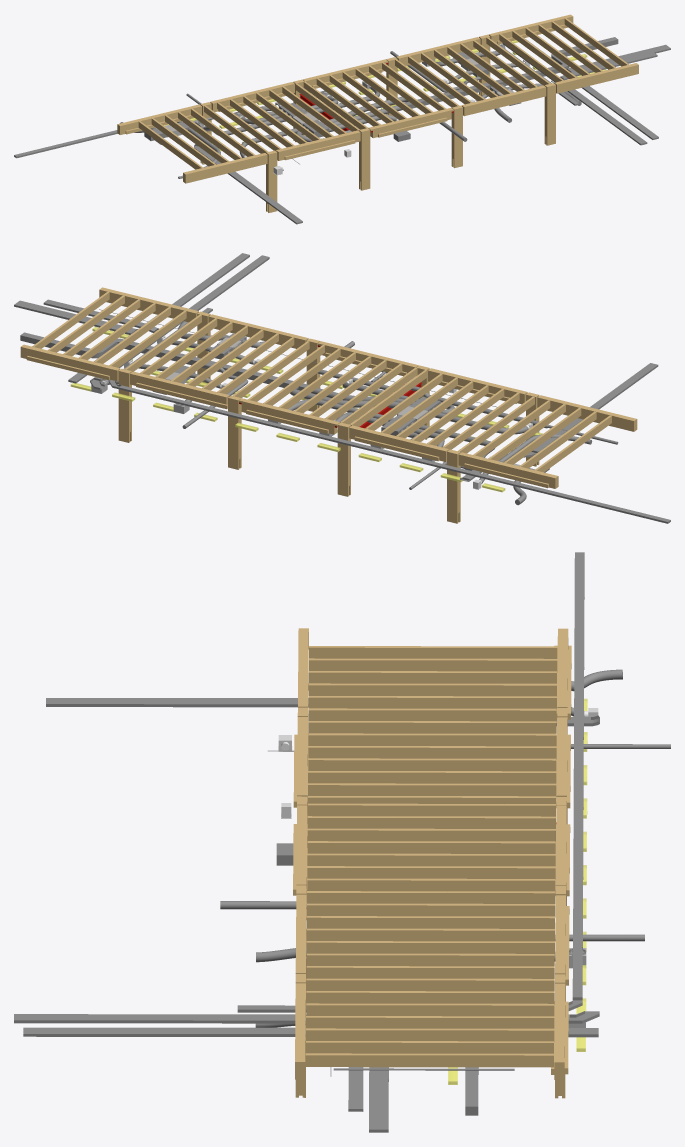
The model's file is MeetingRoomMEP.FBX.
The picture shows the model from 3 angles, top to bottom: view 1: azimuth 30°, elevation 25°; view 2: azimuth 150°, elevation 25°; view 3: azimuth 270°, elevation 25°; orthographic projection. The views are drawn at different scales.
Parts seen in each view (by area): view 1: WoodCeiling, TheRest, WoodSupports, RoundDucting03, RoundDucting02, RoundDucting01, LightFittings; view 2: WoodCeiling, TheRest, WoodSupports, LightFittings, RoundDucting02, RoundDucting03, RoundDucting01; view 3: WoodCeiling, TheRest, WoodSupports, RoundDucting03, LightFittings.
Part boxes in pixels (x1,y1,x2,y2): WoodCeiling: (117, 14, 638, 183); TheRest: (14, 37, 670, 224); WoodSupports: (200, 34, 555, 212); RoundDucting03: (390, 44, 581, 122); RoundDucting02: (239, 96, 407, 157); RoundDucting01: (203, 86, 380, 135); LightFittings: (156, 40, 606, 151); WoodCeiling: (20, 287, 637, 488); TheRest: (14, 253, 670, 523); WoodSupports: (118, 311, 539, 523); LightFittings: (70, 326, 542, 492); RoundDucting02: (290, 382, 528, 434); RoundDucting03: (103, 321, 265, 428); RoundDucting01: (288, 399, 494, 457); WoodCeiling: (293, 628, 571, 1079); TheRest: (14, 552, 670, 1132); WoodSupports: (295, 707, 567, 1098); RoundDucting03: (255, 934, 644, 1027); LightFittings: (448, 698, 587, 1084).
Size of the model in its own units: 1.06 by 0.0985 by 0.5083.
